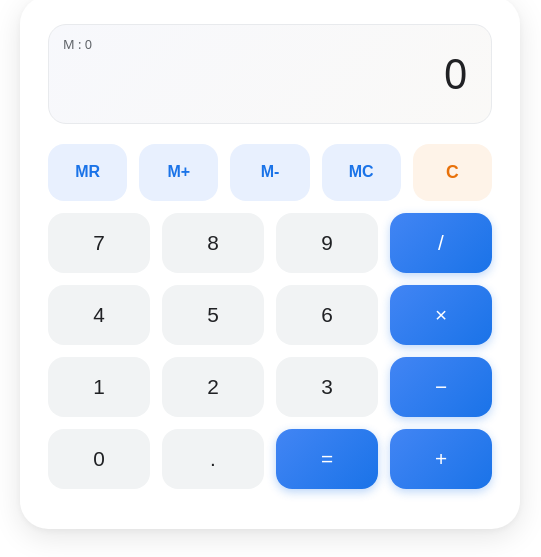
Test case: Calculator › updates display when clicking digit buttons
This screenshot has width=541, height=557.
Click the button "5": {"x": 213, "y": 315} 162,285 -> 264,345
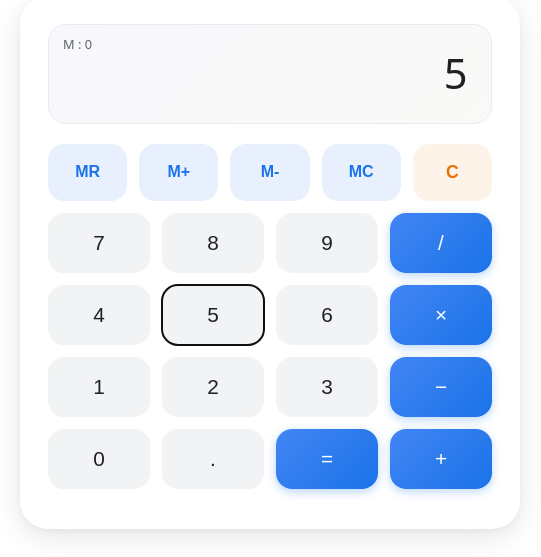
Click the button "3": {"x": 327, "y": 387} 276,357 -> 378,417
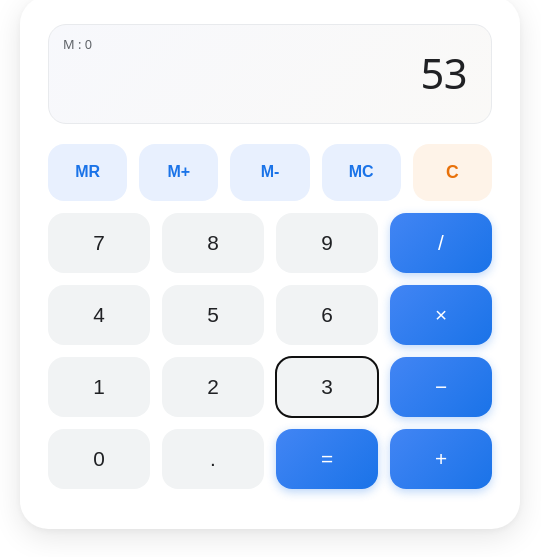
Expected: the text "53" is shown, 420,49 -> 467,99
